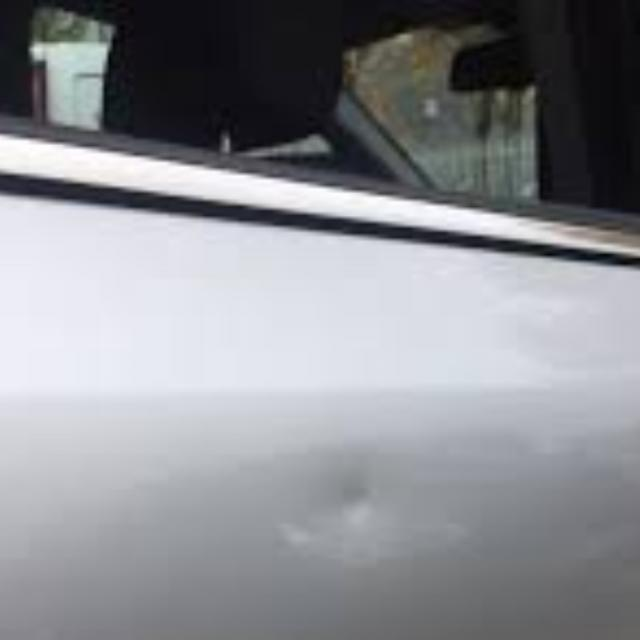dents: (287, 443, 413, 571)
